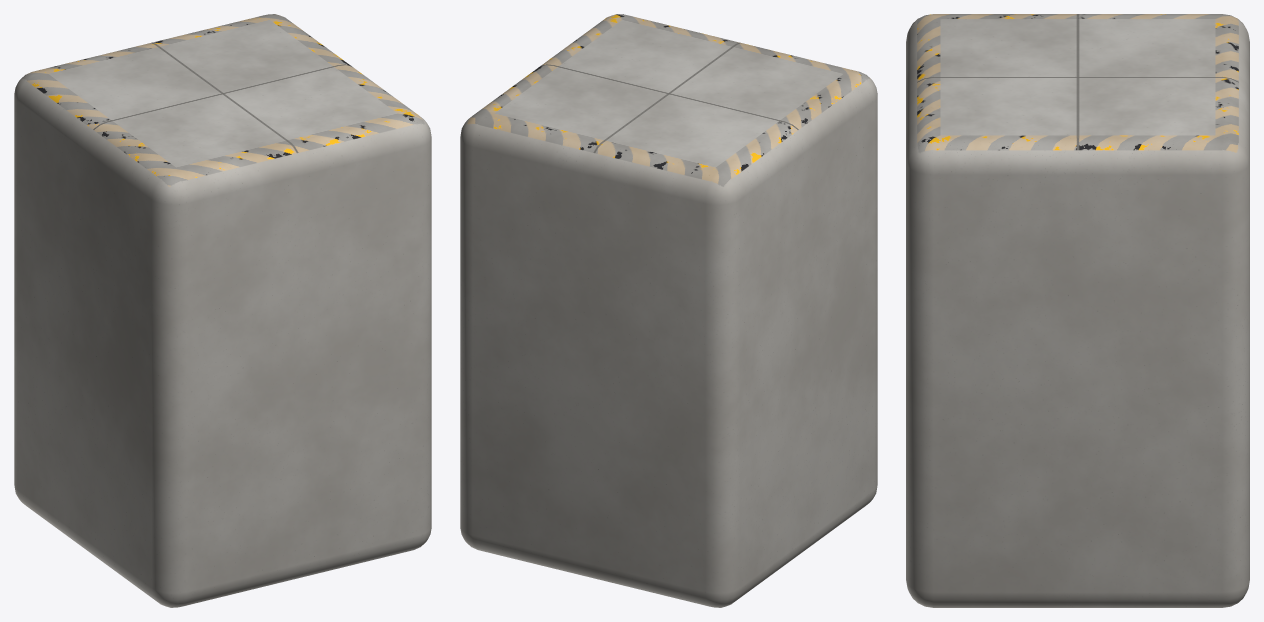
Rendered from SM_Tile_Hazard.fbx.
3 views of the same model, side by side, from view 1: azimuth 30°, elevation 25°; view 2: azimuth 150°, elevation 25°; view 3: azimuth 270°, elevation 25° (orthographic). The views are drawn at different scales.
Visible parts, largest first — view 1: SM_Tile_Hazard; view 2: SM_Tile_Hazard; view 3: SM_Tile_Hazard.
Boxes of the visible parts, left/top/right/bottom form: SM_Tile_Hazard: left=14, top=14, right=431, bottom=607; SM_Tile_Hazard: left=460, top=14, right=877, bottom=607; SM_Tile_Hazard: left=906, top=14, right=1249, bottom=607.
Size of the model in its own units: 2 by 3 by 2.
